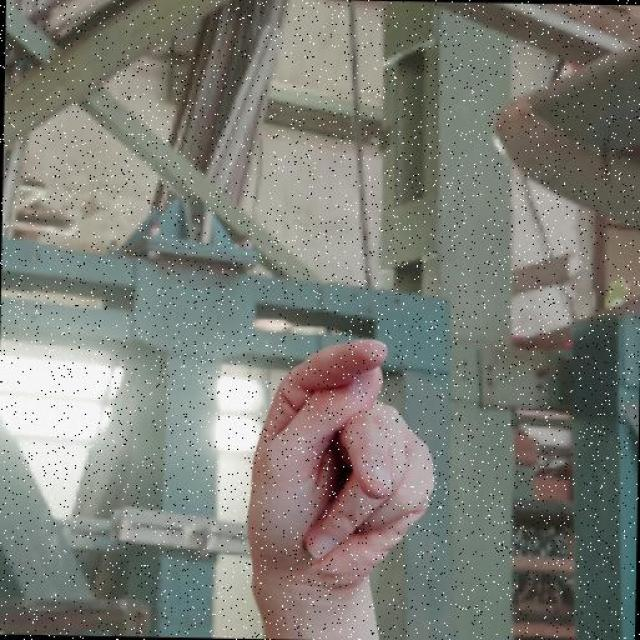P: (239, 334, 440, 607)
